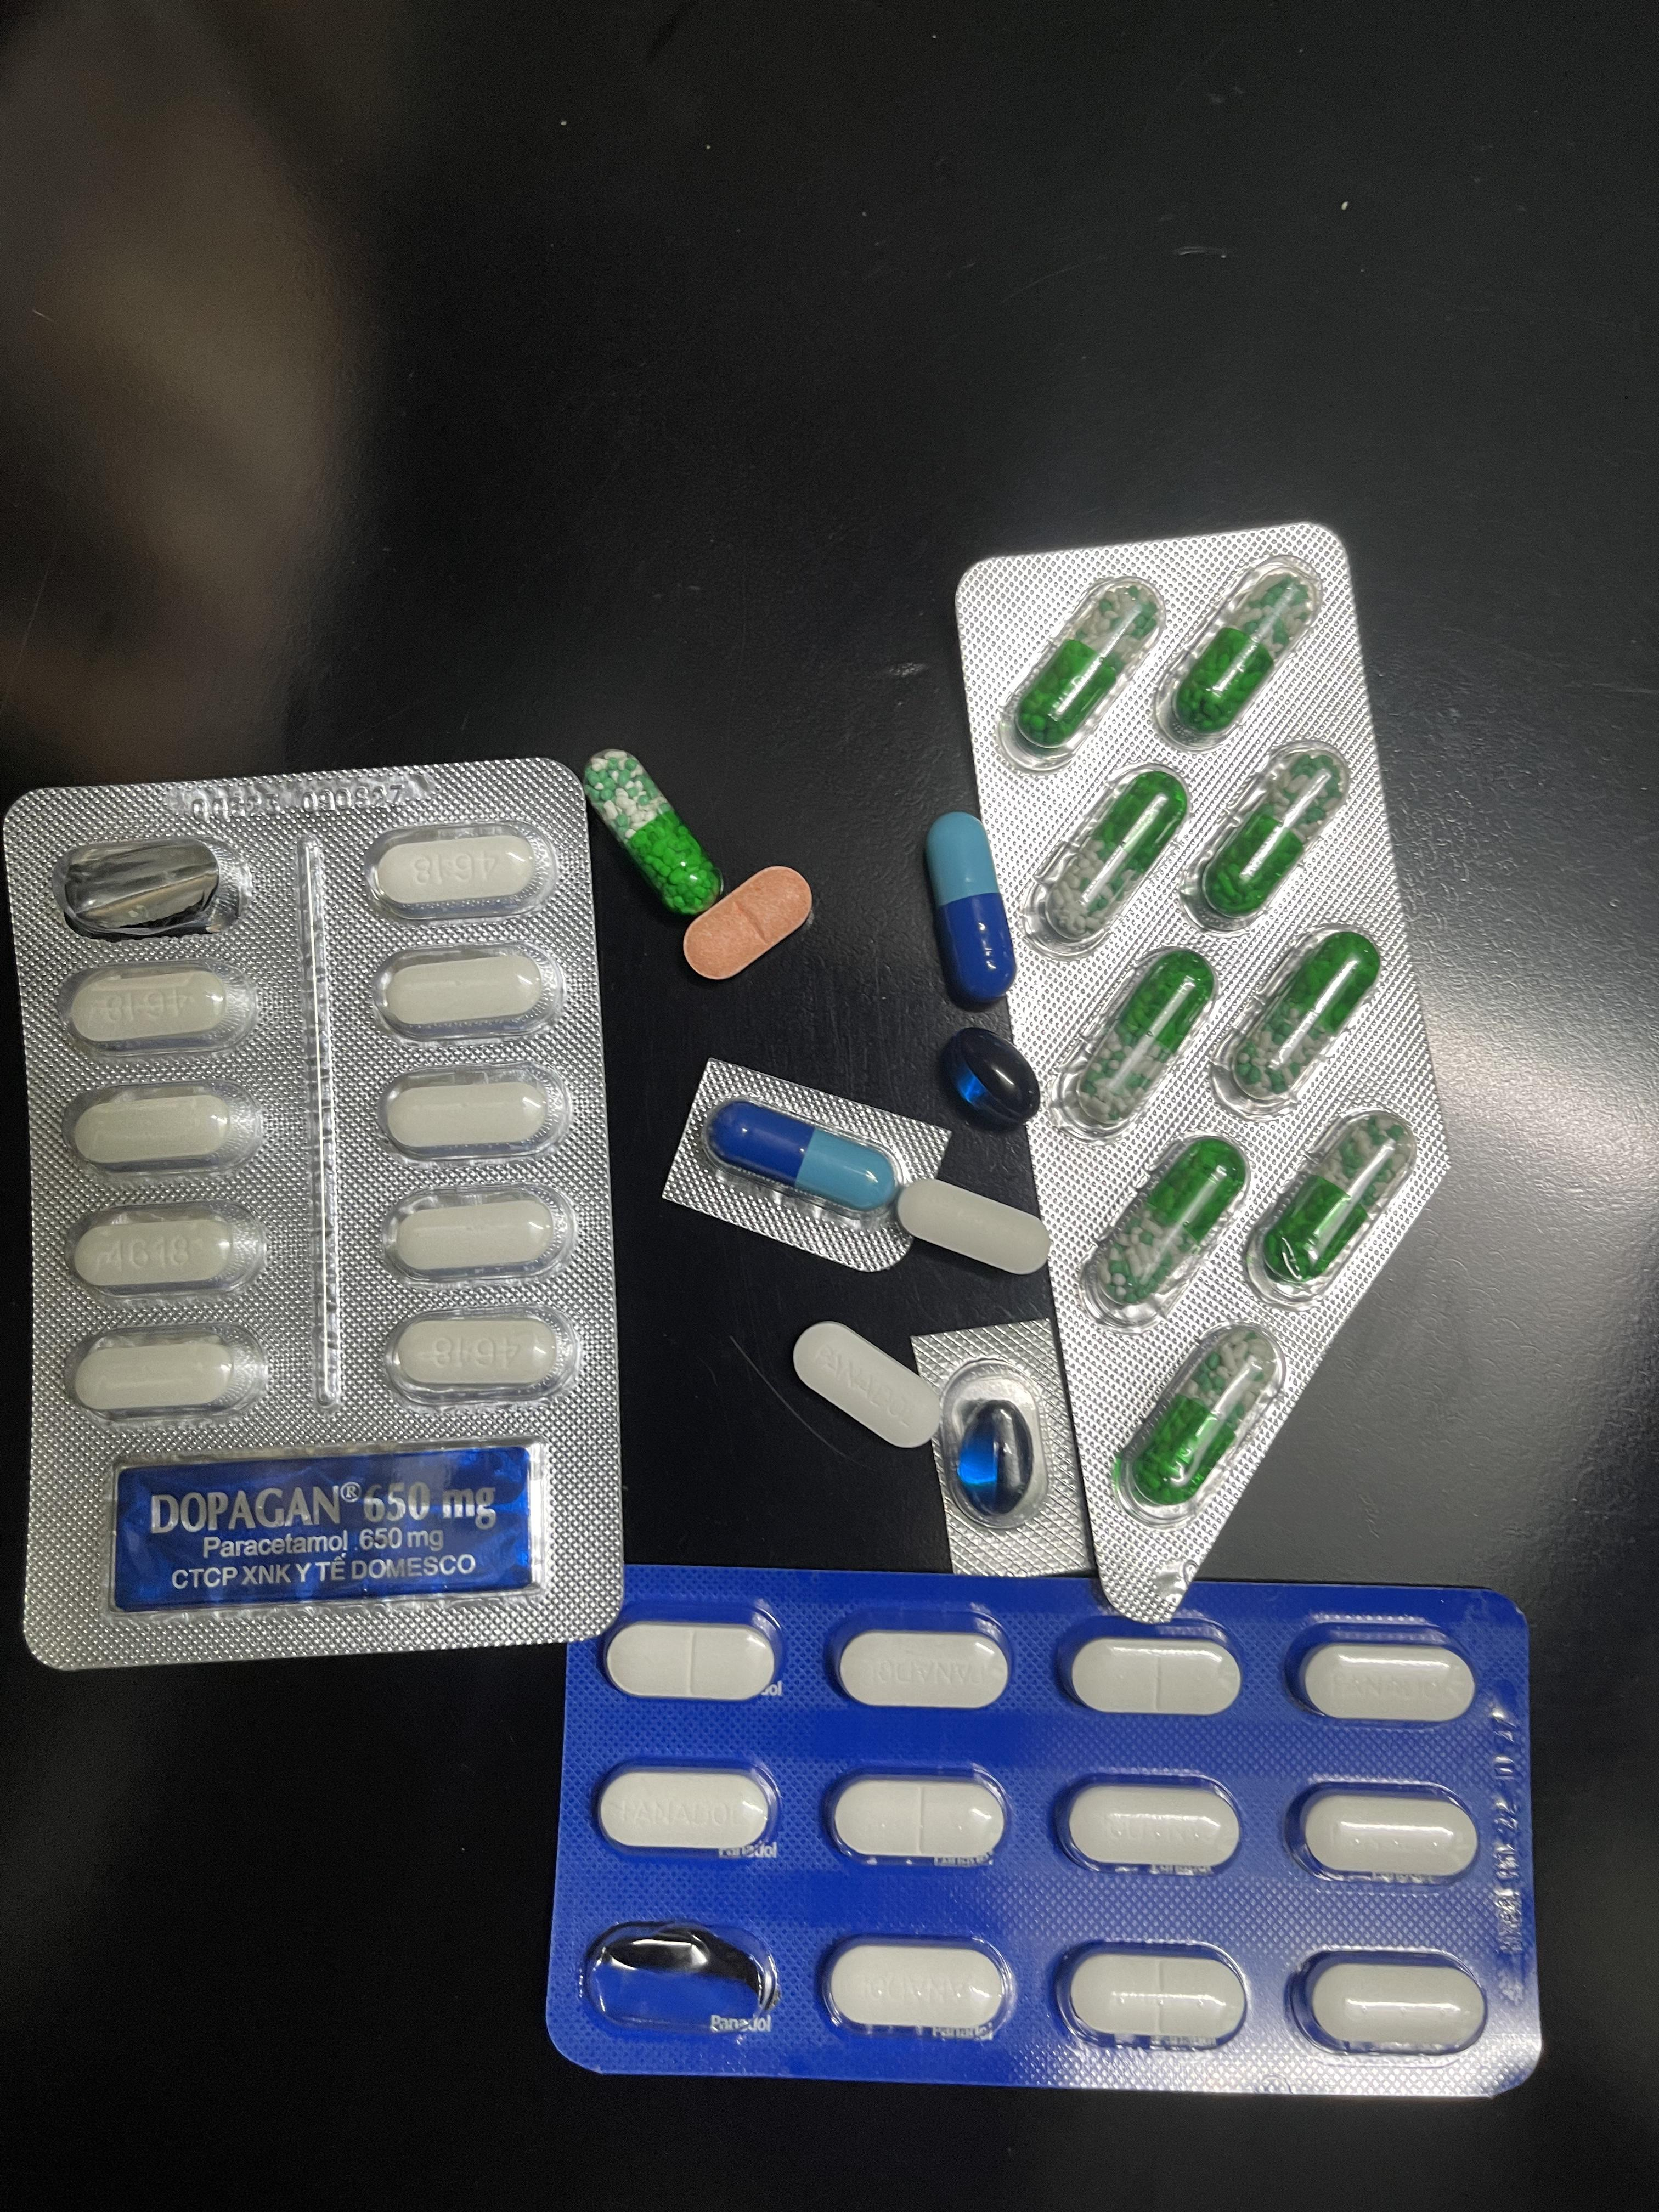Lincomyxin_500mg: (939, 1028, 1042, 1129), (953, 1400, 1033, 1515)
Loratadine_10mg: (680, 866, 810, 981)
Paracetamol_350mg: (1291, 1952, 1495, 2059), (1290, 1785, 1485, 1883), (793, 1318, 941, 1446), (1058, 1777, 1243, 1874), (826, 1768, 1011, 1865), (594, 1763, 779, 1858), (1056, 1622, 1239, 1714), (1066, 1951, 1249, 2043), (828, 1942, 1012, 2033), (1293, 1639, 1480, 1724), (603, 1615, 779, 1698), (836, 1630, 1012, 1709)
Paracetamol_500mg: (64, 1325, 268, 1420), (382, 1308, 575, 1404), (68, 1204, 267, 1296), (64, 1080, 265, 1170), (383, 1184, 572, 1280), (364, 822, 552, 918), (380, 1064, 570, 1158), (375, 944, 565, 1036), (59, 963, 258, 1050), (896, 1177, 1051, 1275)
Paracetamol_650mg: (1244, 1106, 1420, 1303), (1080, 1134, 1249, 1325), (1182, 742, 1354, 927), (1215, 930, 1385, 1115), (1053, 949, 1218, 1137), (1000, 577, 1161, 770), (1028, 768, 1188, 949), (1122, 1332, 1272, 1503), (1171, 573, 1317, 737), (589, 747, 727, 920)
pill: (711, 1101, 901, 1217), (924, 815, 1018, 1008)
